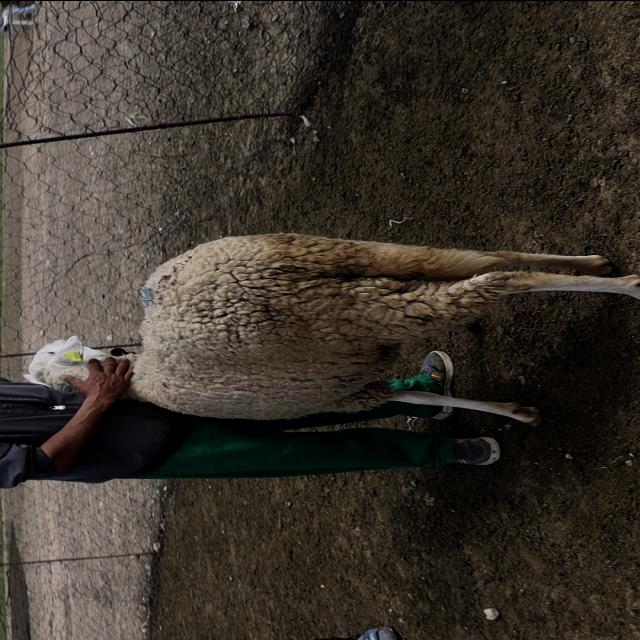Score_5: (26, 232, 639, 425)
